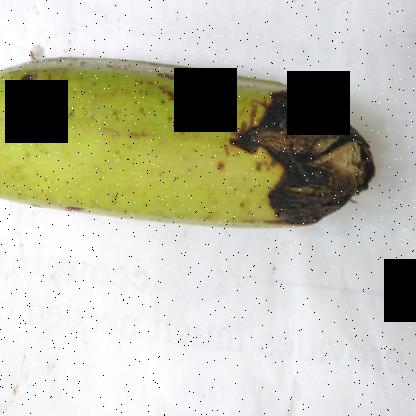rotten: (215, 42, 383, 253)
